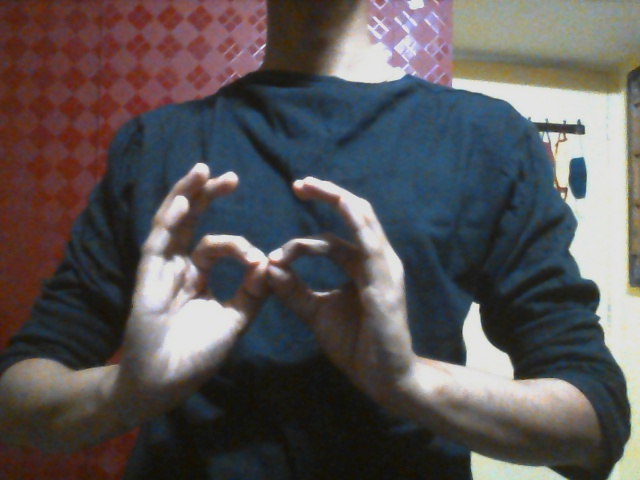B: (121, 161, 413, 441)
